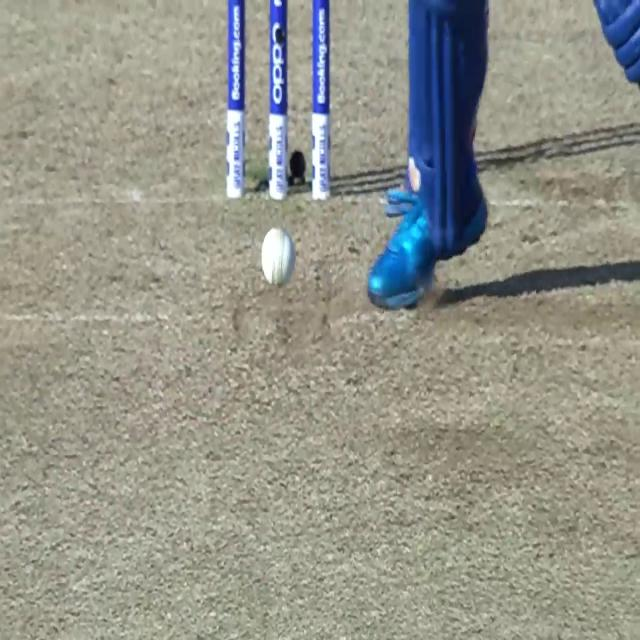ball: (261, 227, 297, 290)
